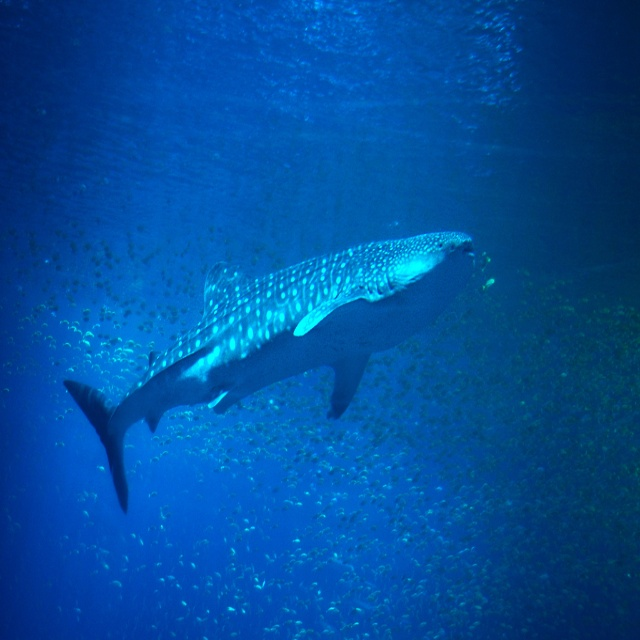Shark: (67, 235, 469, 508)
